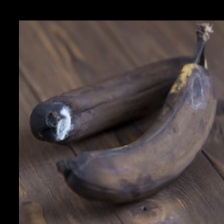banana: (32, 35, 190, 186)
